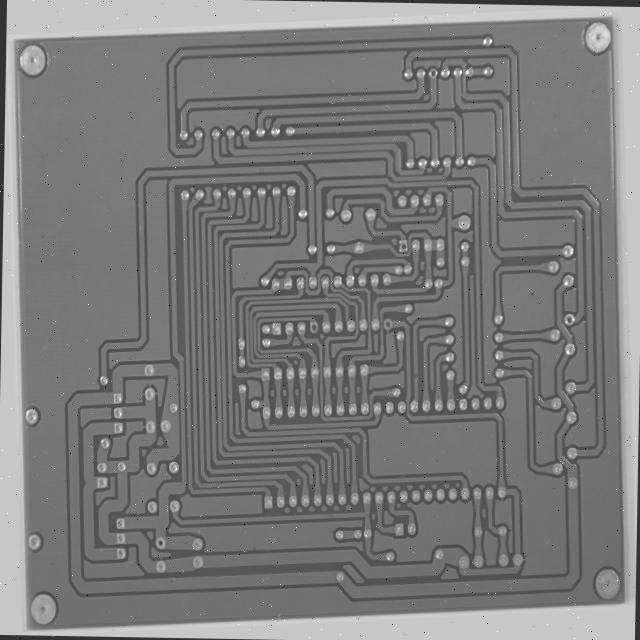missing_hole: (401, 236, 417, 254), (381, 318, 396, 336), (570, 326, 586, 342), (440, 56, 454, 72), (306, 317, 318, 333)
